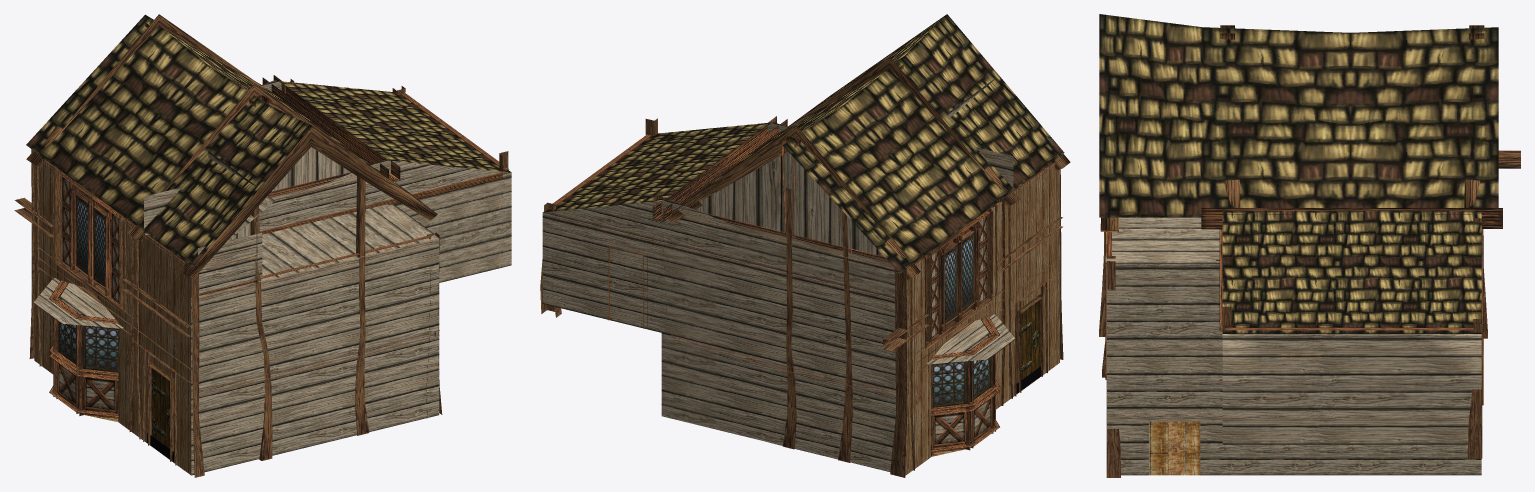
The model's file is LAKETOWN_GRANDMA_PS_GM_MAIN_SHELL96968__GX.fbx.
3 renders of one model, left to right at view 1: azimuth 30°, elevation 25°; view 2: azimuth 150°, elevation 25°; view 3: azimuth 270°, elevation 25°, orthographic. The views are drawn at different scales.
Parts seen in each view (by area): view 1: LAKETOWN_GRANDMA_PS_GM_MAIN_SHELL96968__GX; view 2: LAKETOWN_GRANDMA_PS_GM_MAIN_SHELL96968__GX; view 3: LAKETOWN_GRANDMA_PS_GM_MAIN_SHELL96968__GX.
Boxes of the visible parts, x1=… form: LAKETOWN_GRANDMA_PS_GM_MAIN_SHELL96968__GX: x1=14, y1=14, x2=511, y2=477; LAKETOWN_GRANDMA_PS_GM_MAIN_SHELL96968__GX: x1=540, y1=14, x2=1070, y2=477; LAKETOWN_GRANDMA_PS_GM_MAIN_SHELL96968__GX: x1=1099, y1=14, x2=1520, y2=477.
Size of the model in its own units: 123244 by 92203 by 91207.
Materials: 21 (21 with a texture image).
